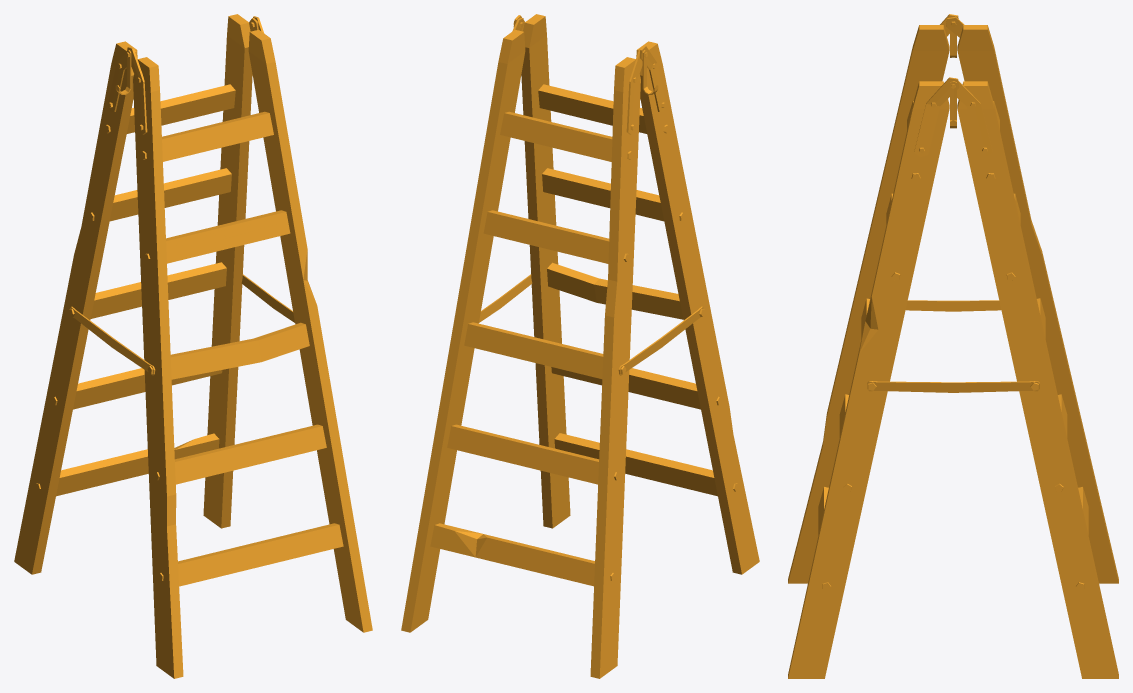
File: SM_Ladder_Folding_Farm.fbx
3 renders of one model, left to right at view 1: azimuth 30°, elevation 25°; view 2: azimuth 150°, elevation 25°; view 3: azimuth 270°, elevation 25°, orthographic. The views are drawn at different scales.
Visible parts, largest first — view 1: ladder-folding-farm; view 2: ladder-folding-farm; view 3: ladder-folding-farm.
Boxes of the visible parts, bbox=[...] form: ladder-folding-farm: bbox=[14, 14, 372, 678]; ladder-folding-farm: bbox=[401, 14, 759, 678]; ladder-folding-farm: bbox=[788, 14, 1118, 678].
Bounding box in the file's own units: 0.6444 × 1.75 × 0.9001.
